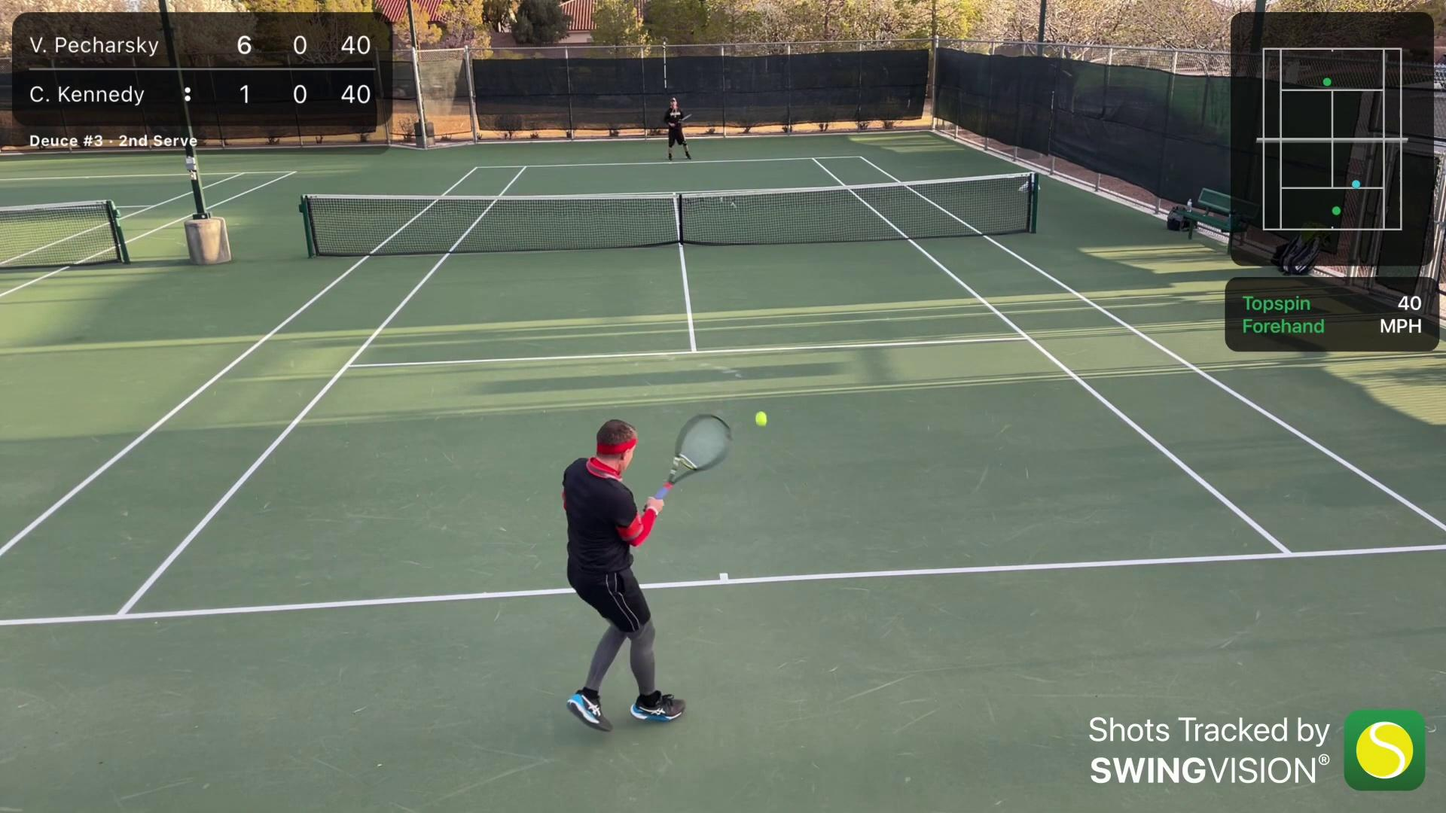ball: (757, 410, 768, 430)
